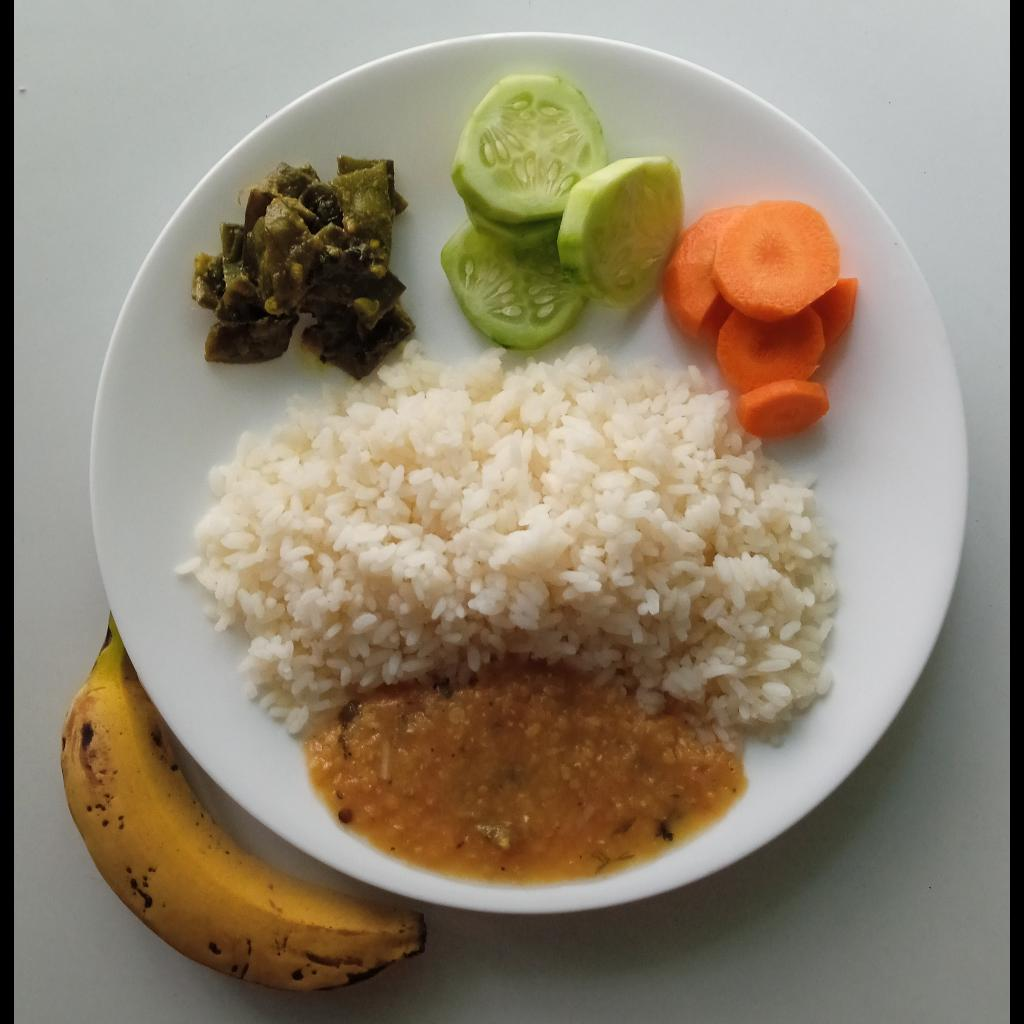banana: (59, 609, 429, 993)
cucumber: (441, 76, 687, 347), (664, 198, 859, 439)
daal: (300, 660, 745, 883)
rice: (181, 347, 836, 746)
shim: (190, 155, 418, 384)
